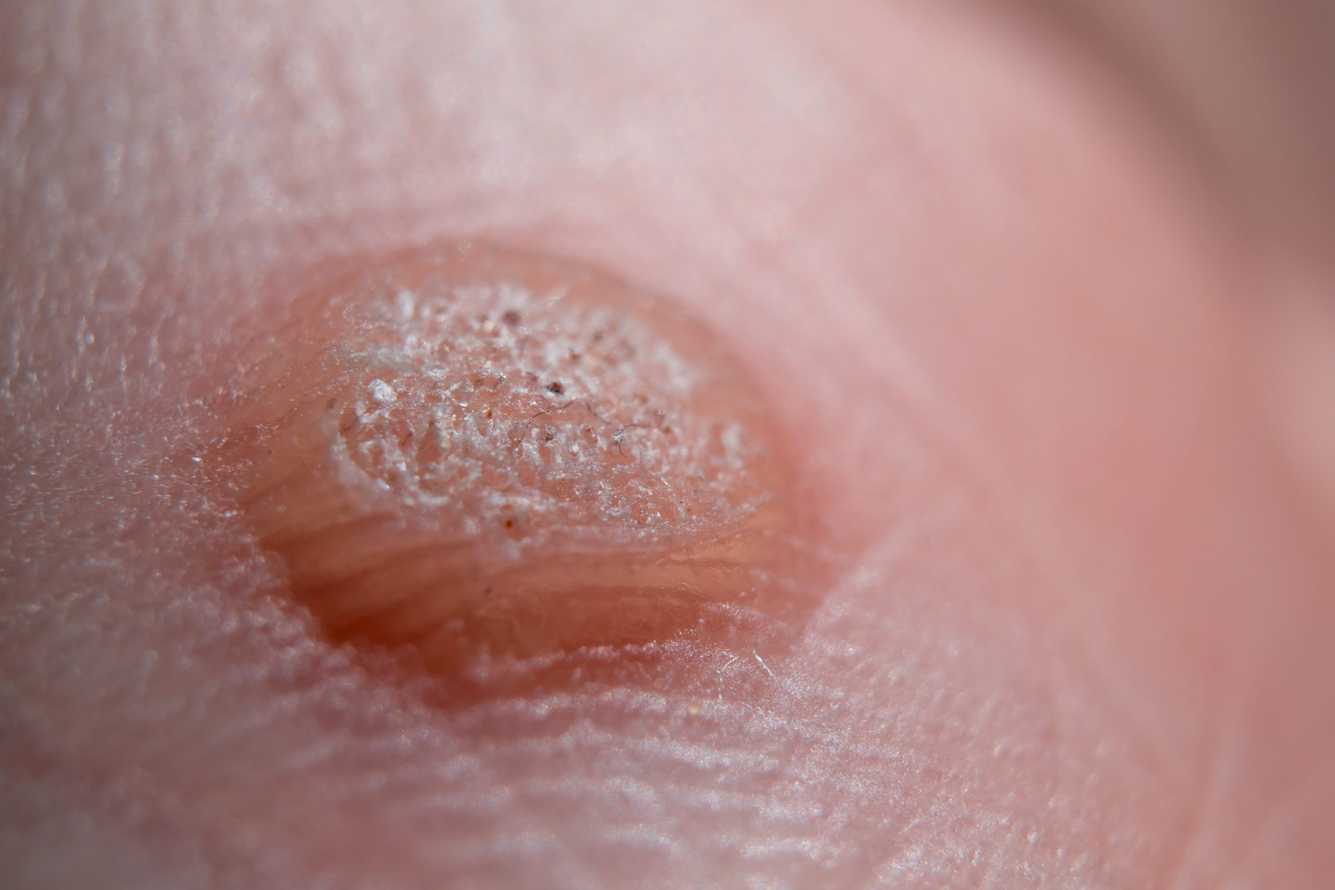Warts: (167, 160, 875, 773)
